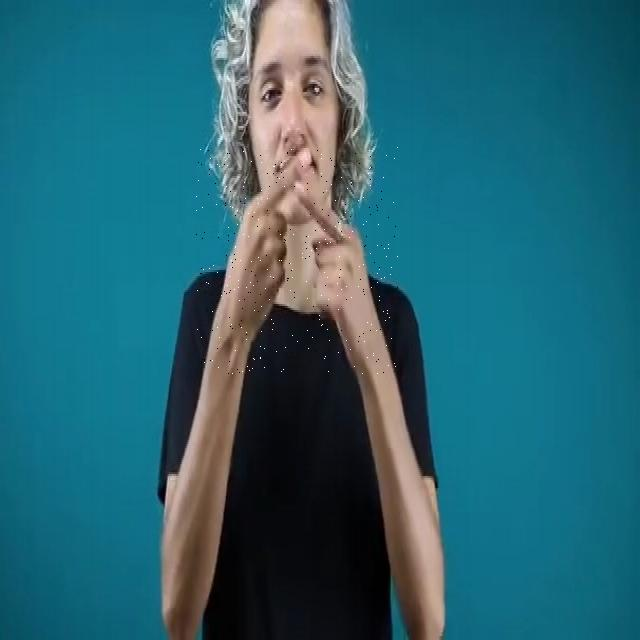allergy: (196, 146, 398, 374)
